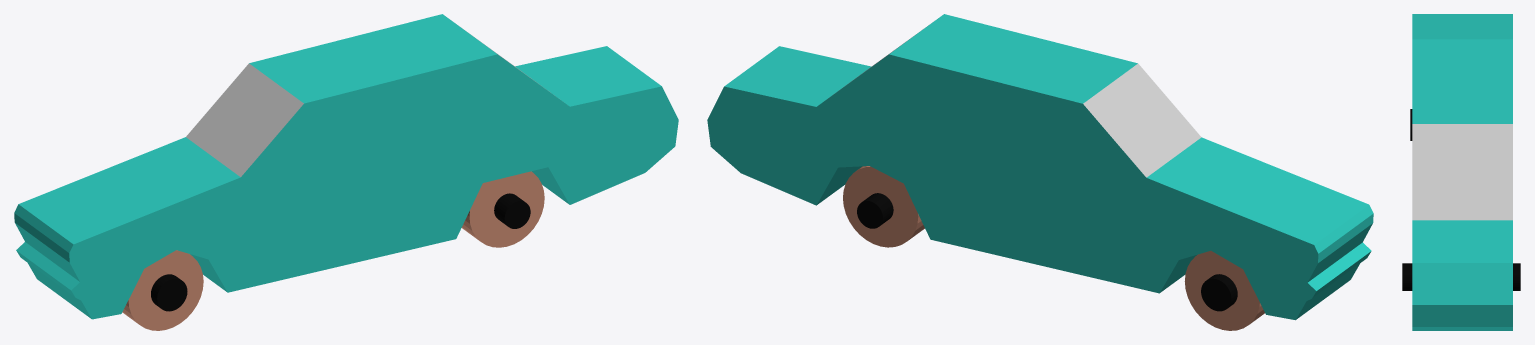
Rendered from Car.obj.
The picture shows the model from 3 angles, left to right: view 1: azimuth 30°, elevation 25°; view 2: azimuth 150°, elevation 25°; view 3: azimuth 270°, elevation 25°; orthographic projection. The views are drawn at different scales.
Visible parts, largest first — view 1: Cube, Cylinder, Cylinder.002, Cylinder.003, Cylinder.001; view 2: Cube, Cylinder, Cylinder.002, Cylinder.003, Cylinder.001; view 3: Cube, Cylinder.001.
Boxes of the visible parts, x1,y1,x2,y2 form: Cube: (14, 14, 678, 319); Cylinder: (461, 171, 544, 247); Cylinder.002: (122, 250, 203, 330); Cylinder.003: (151, 274, 187, 311); Cylinder.001: (494, 193, 530, 228); Cube: (707, 14, 1373, 320); Cylinder: (843, 166, 924, 247); Cylinder.002: (1184, 250, 1264, 330); Cylinder.003: (1201, 274, 1237, 311); Cylinder.001: (857, 193, 893, 228); Cube: (1412, 14, 1512, 330); Cylinder.001: (1402, 263, 1520, 290).
Bounding box in the file's own units: 4.66 × 1.46 × 0.8555.
